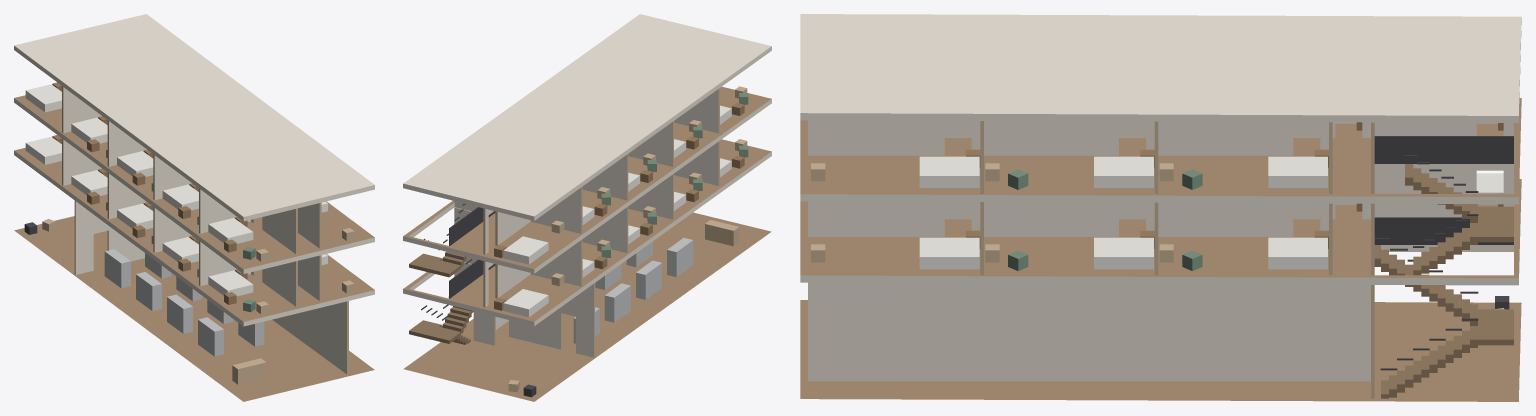
The model's file is interior.glb.
3 views of the same model, side by side, from view 1: azimuth 30°, elevation 25°; view 2: azimuth 150°, elevation 25°; view 3: azimuth 270°, elevation 25° (orthographic). The views are drawn at different scales.
Visible parts, largest first — view 1: slabs, partitions, coarse-s0, coarse-s1, coarse-s2; view 2: slabs, partitions, coarse-s0, stair, coarse-s2, coarse-s1; view 3: slabs, partitions, stair, coarse-s1, coarse-s2.
Part boxes in pixels (left/top/right/bottom): slabs: left=14, top=14, right=374, bottom=401; partitions: left=62, top=86, right=348, bottom=374; coarse-s0: left=24, top=219, right=266, bottom=384; coarse-s1: left=25, top=135, right=354, bottom=314; coarse-s2: left=25, top=82, right=354, bottom=261; slabs: left=403, top=14, right=771, bottom=401; partitions: left=454, top=88, right=719, bottom=357; coarse-s0: left=508, top=220, right=739, bottom=397; stair: left=409, top=203, right=495, bottom=344; coarse-s2: left=494, top=86, right=748, bottom=264; coarse-s1: left=494, top=139, right=748, bottom=317; slabs: left=800, top=14, right=1521, bottom=401; partitions: left=808, top=120, right=1513, bottom=398; stair: left=1374, top=136, right=1513, bottom=398; coarse-s1: left=811, top=173, right=1503, bottom=270; coarse-s2: left=811, top=122, right=1503, bottom=189.
Size of the model in its own units: 8.05 by 10.54 by 24.04.
